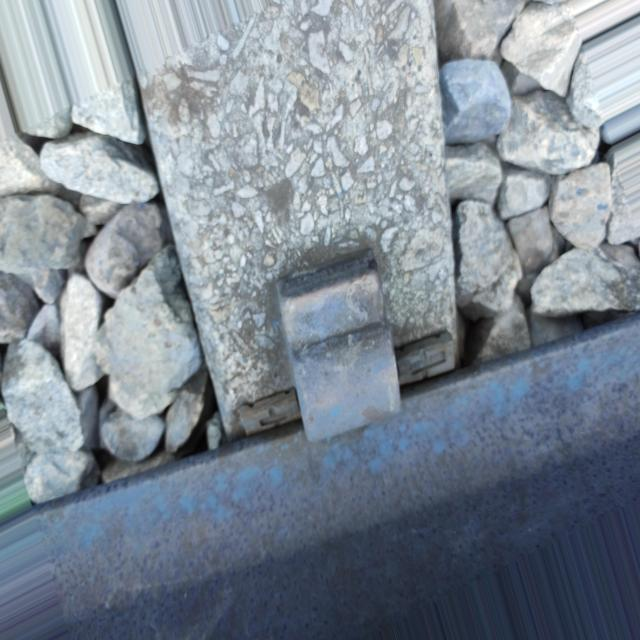Missing Fastener: (243, 218, 460, 482)
